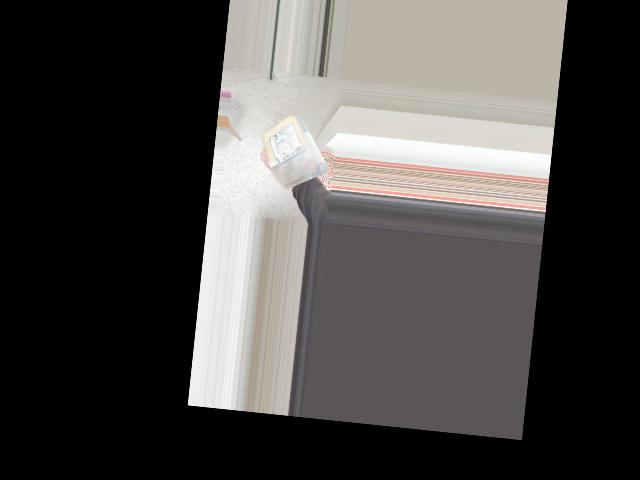cheese: (258, 113, 323, 185)
